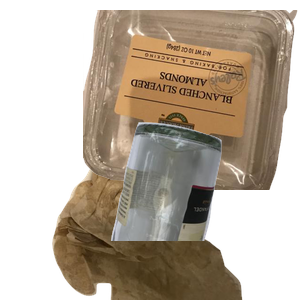glass: (109, 120, 300, 300)
metal: (89, 48, 276, 192)
plastic: (83, 10, 300, 190)
trash: (50, 120, 285, 300)
